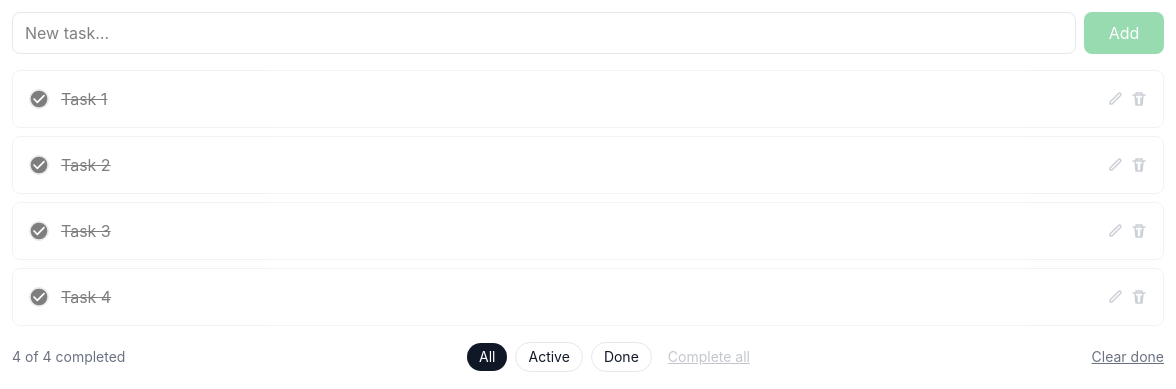
Scenario: bulk action error feedback › does not duplicate tasks when Clear done partially fails across several concurrent deletes
Expected: the text "Task 1" is shown, 61,89 -> 107,109
Click the button "Clear done" at (1128, 357), box 1092,347 -> 1164,367
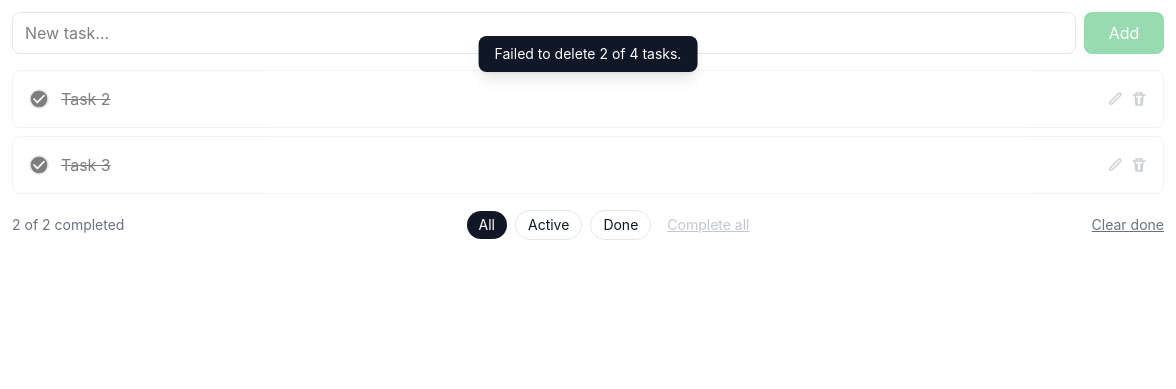
Expected: the message reads "Failed to delete 2 of 4 tasks.", 495,45 -> 681,62
Expected: the text "Task 1" is gone
Expected: the text "Task 4" is gone
